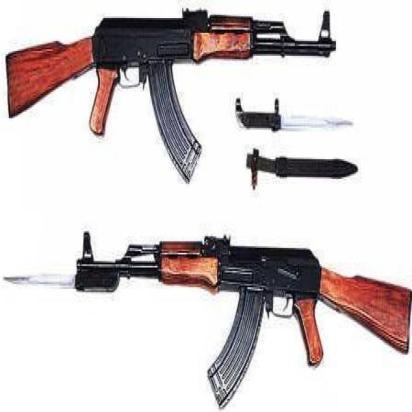Gun: (5, 3, 339, 184), (70, 230, 412, 405)
